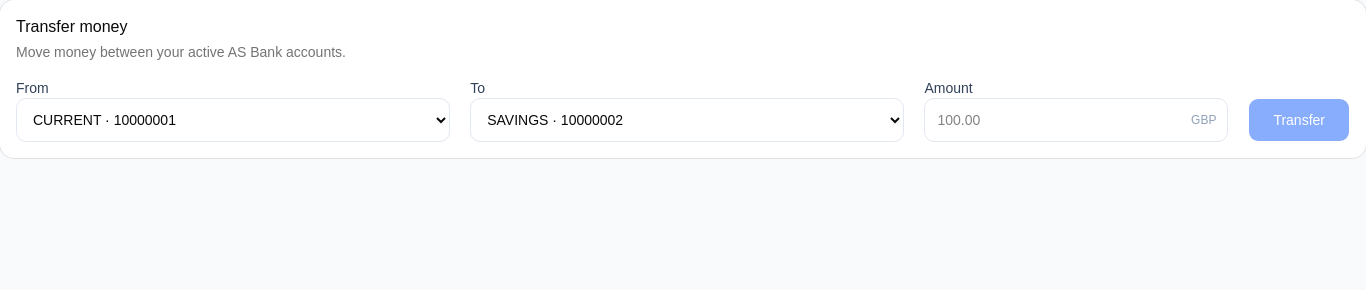
Scenario: TransferPanel › reuses the idempotency key when the same transfer is retried
Type "25" into the number field labelled "Amount".
click(1076, 120); type("25")  # box [924,98,1228,142]
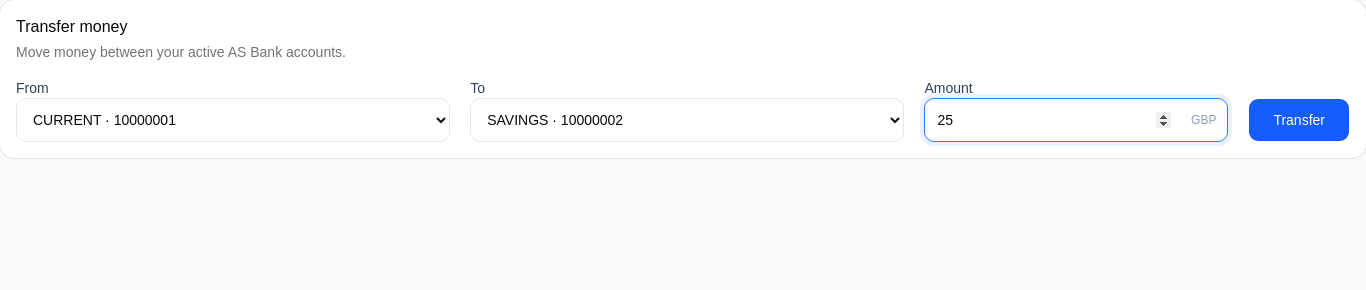
Click the button "Transfer".
click(1299, 120)  # box [1248,98,1350,142]
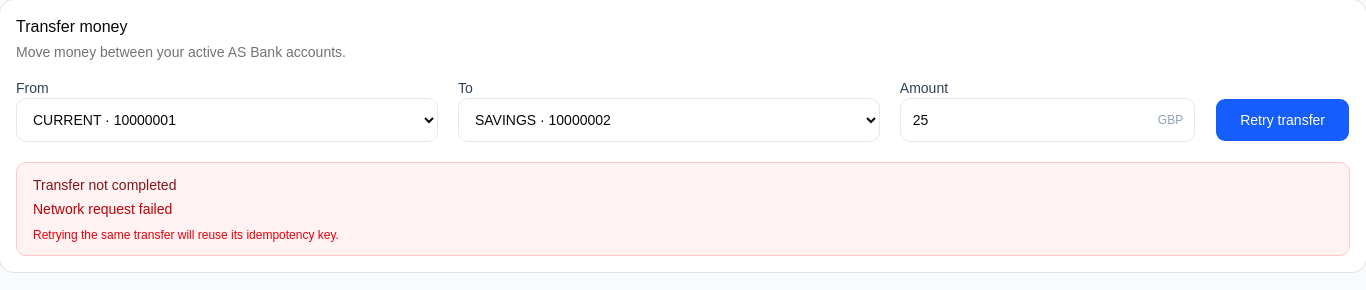
Expected: the text "Network request failed" is shown, [33,201,172,217]
Expected: the button "Retry transfer" is shown
Click the button "Retry transfer".
click(1283, 120)  # box [1215,98,1350,142]
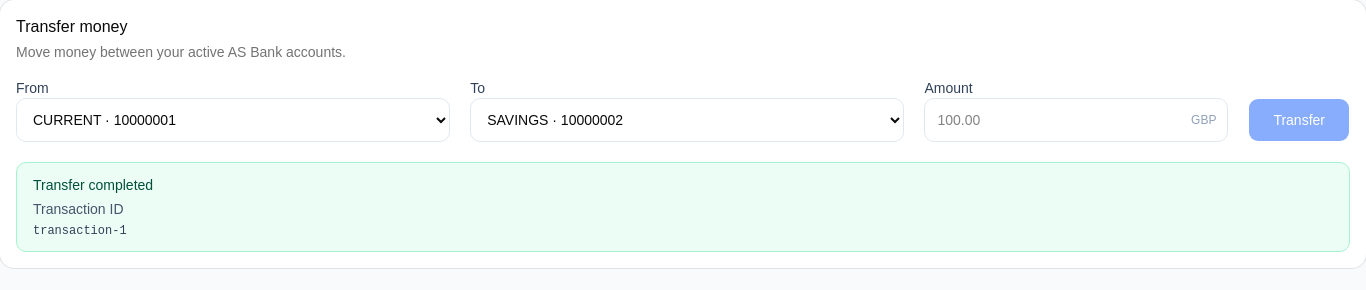
Expected: the text "Transfer completed" is shown, [33,177,153,193]
